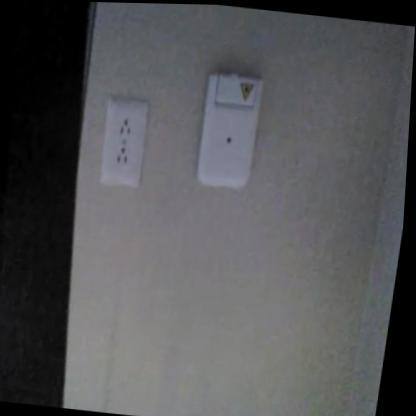OUTLET: (96, 97, 152, 189)
